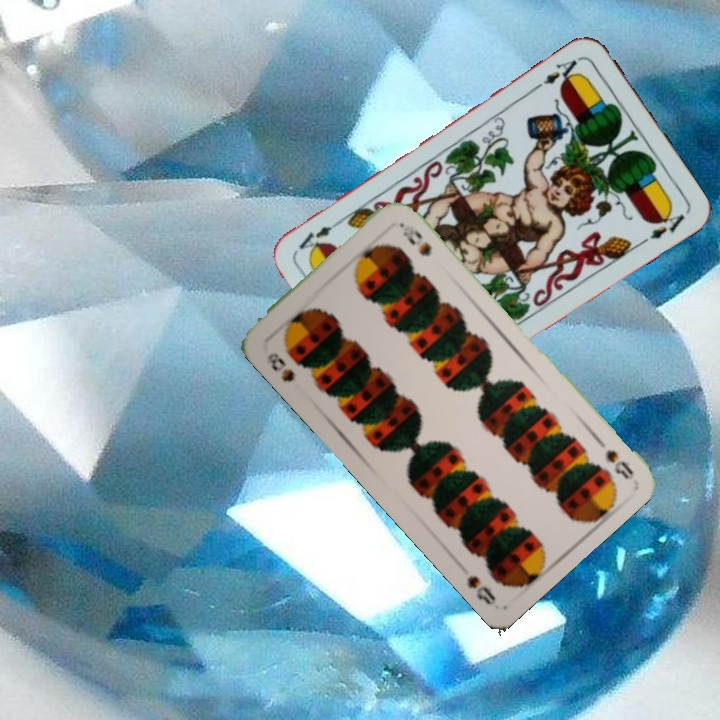EA: (533, 52, 585, 91)
S8: (591, 432, 636, 482), (263, 348, 297, 385)
